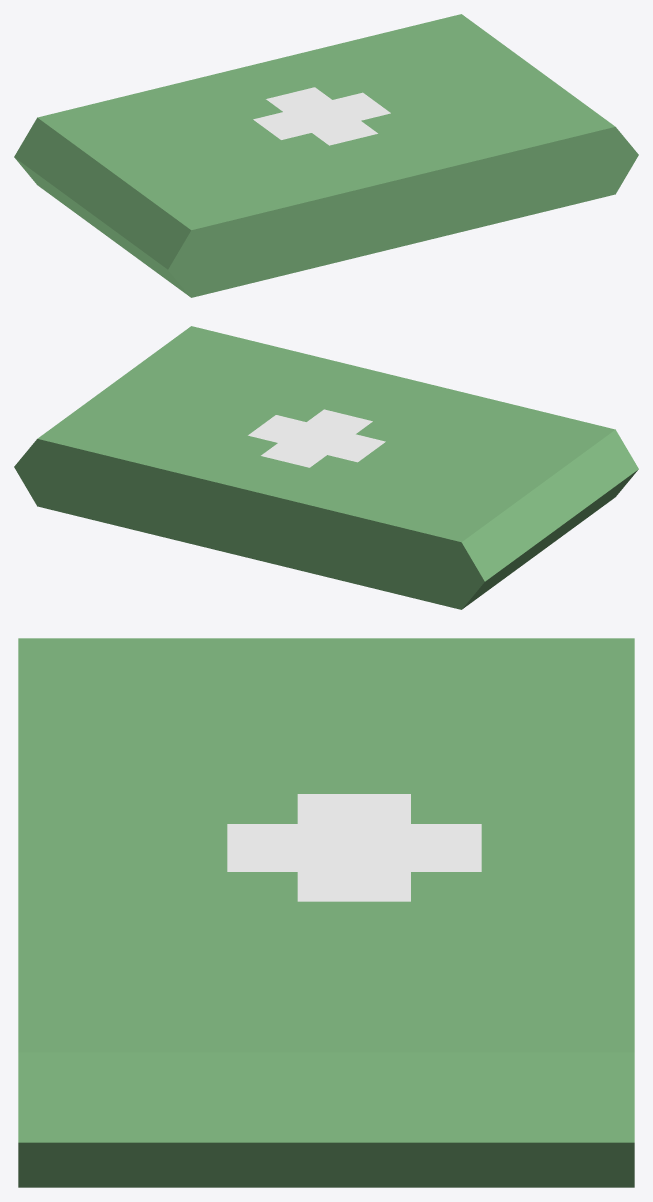
File: MedKit.fbx
3 renders of one model, top to bottom at view 1: azimuth 30°, elevation 25°; view 2: azimuth 150°, elevation 25°; view 3: azimuth 270°, elevation 25°, orthographic. The views are drawn at different scales.
Parts seen in each view (by area): view 1: MedKit; view 2: MedKit; view 3: MedKit.
Boxes of the visible parts, box(x1,y1,x2,y2) form: MedKit: box(14, 14, 638, 297); MedKit: box(14, 326, 638, 609); MedKit: box(18, 638, 634, 1187).
Size of the model in its own units: 0.2184 by 0.03 by 0.1238.
